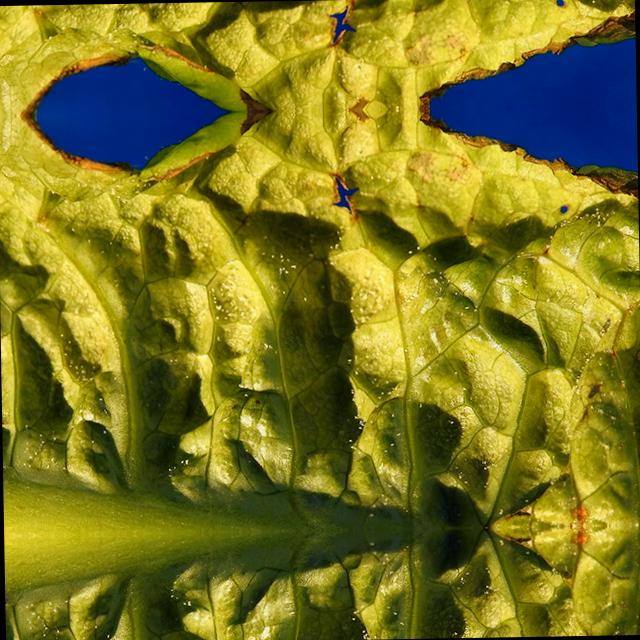Lettuce - Anthracnose: (0, 110, 640, 528), (3, 531, 640, 640), (0, 0, 636, 109)
